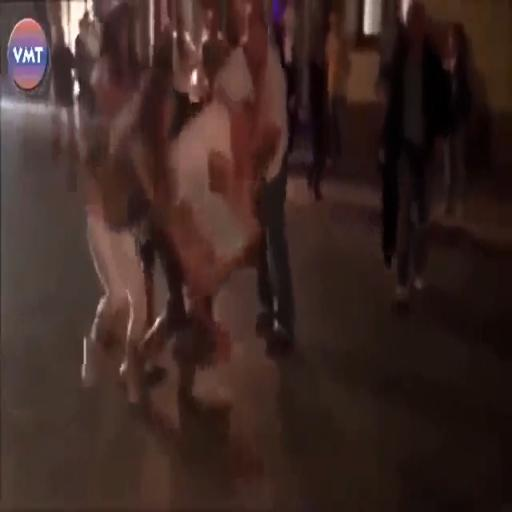violencia: (141, 3, 306, 434)
